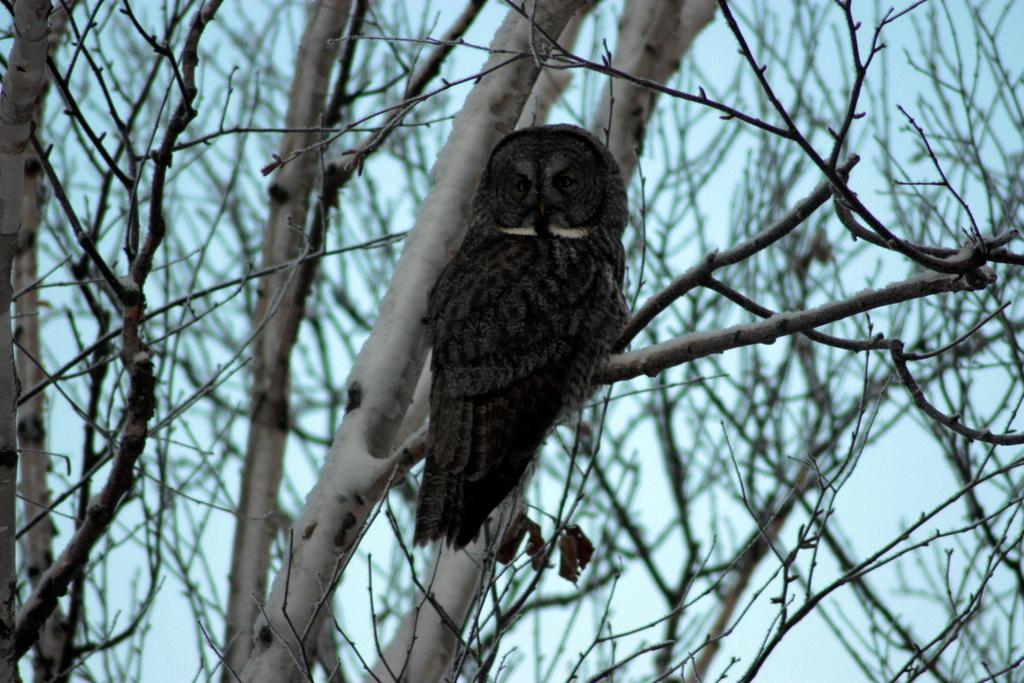Owl: (406, 121, 634, 549)
